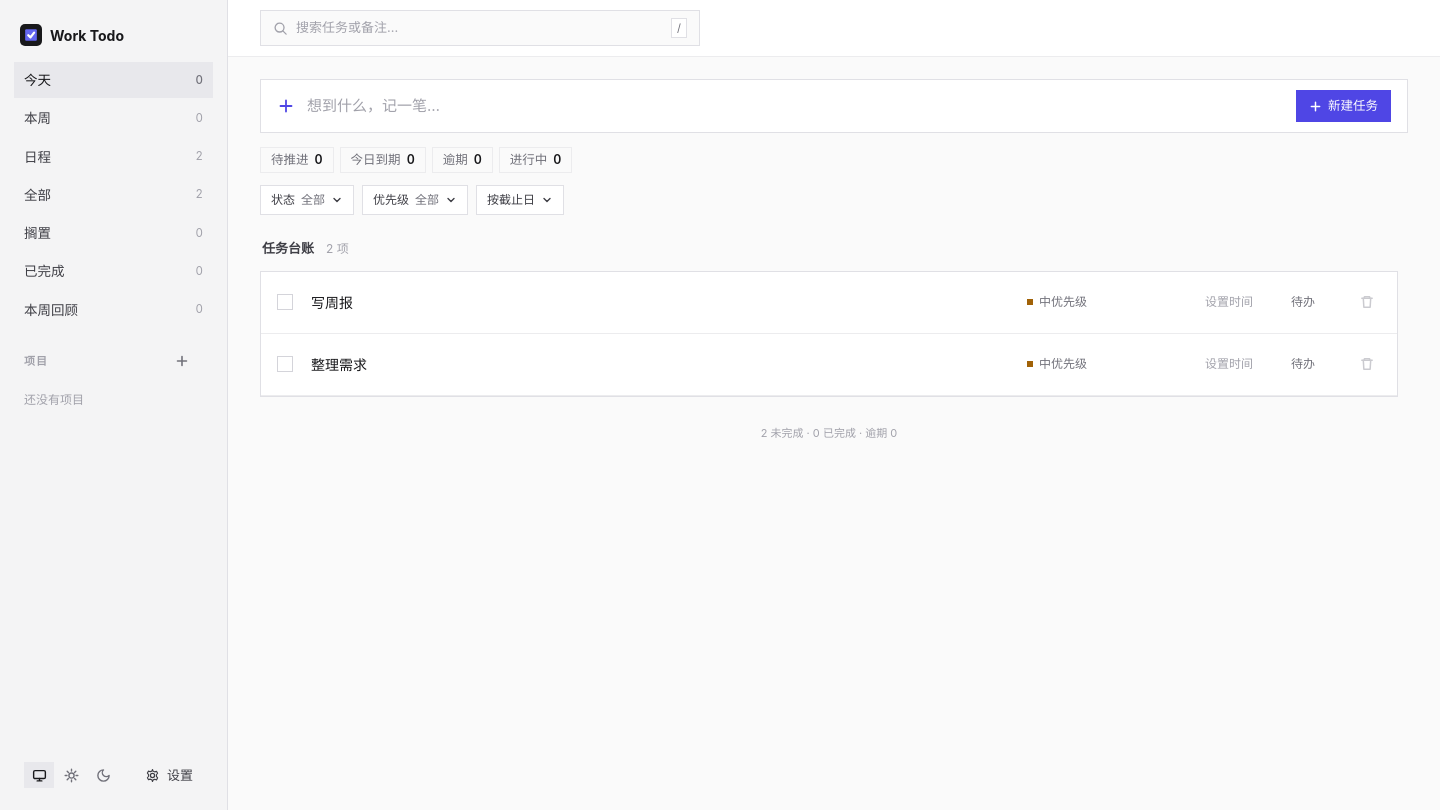
Test: 列表行不提供搁置入口 › 批量搁置后移出列表并汇报数量，侧栏计数随之变化
Expected: the text with id "nav-count-all" reads "2", [196,187,203,201]
Expected: the text with id "nav-count-shelved" reads "0", [196,226,203,240]
Step 1. Click the button with class "select-check" next to "写周报" → [285, 302], box [277,294,293,310]
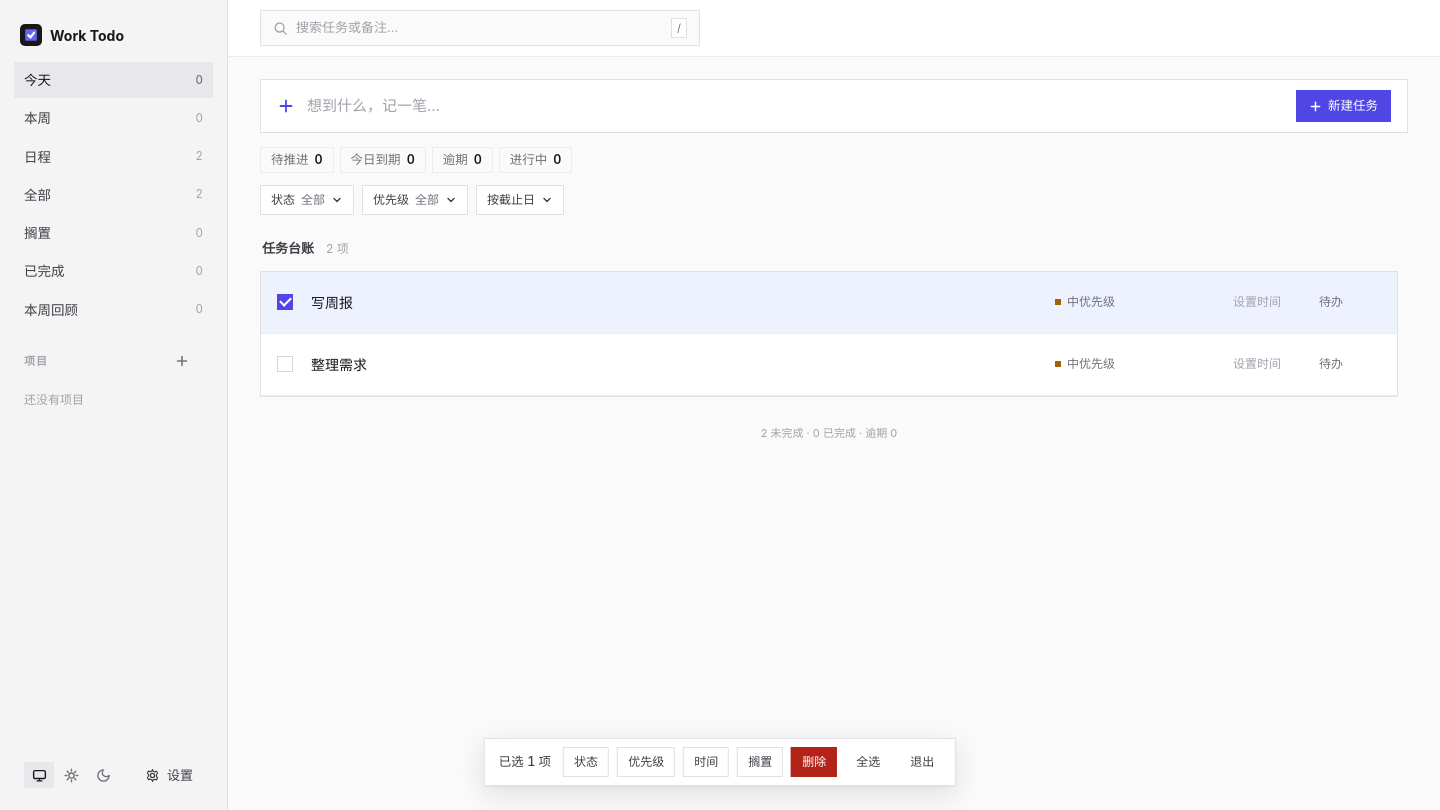
Step 2. Click the button "搁置" → [760, 762], box [737,747,783,777]
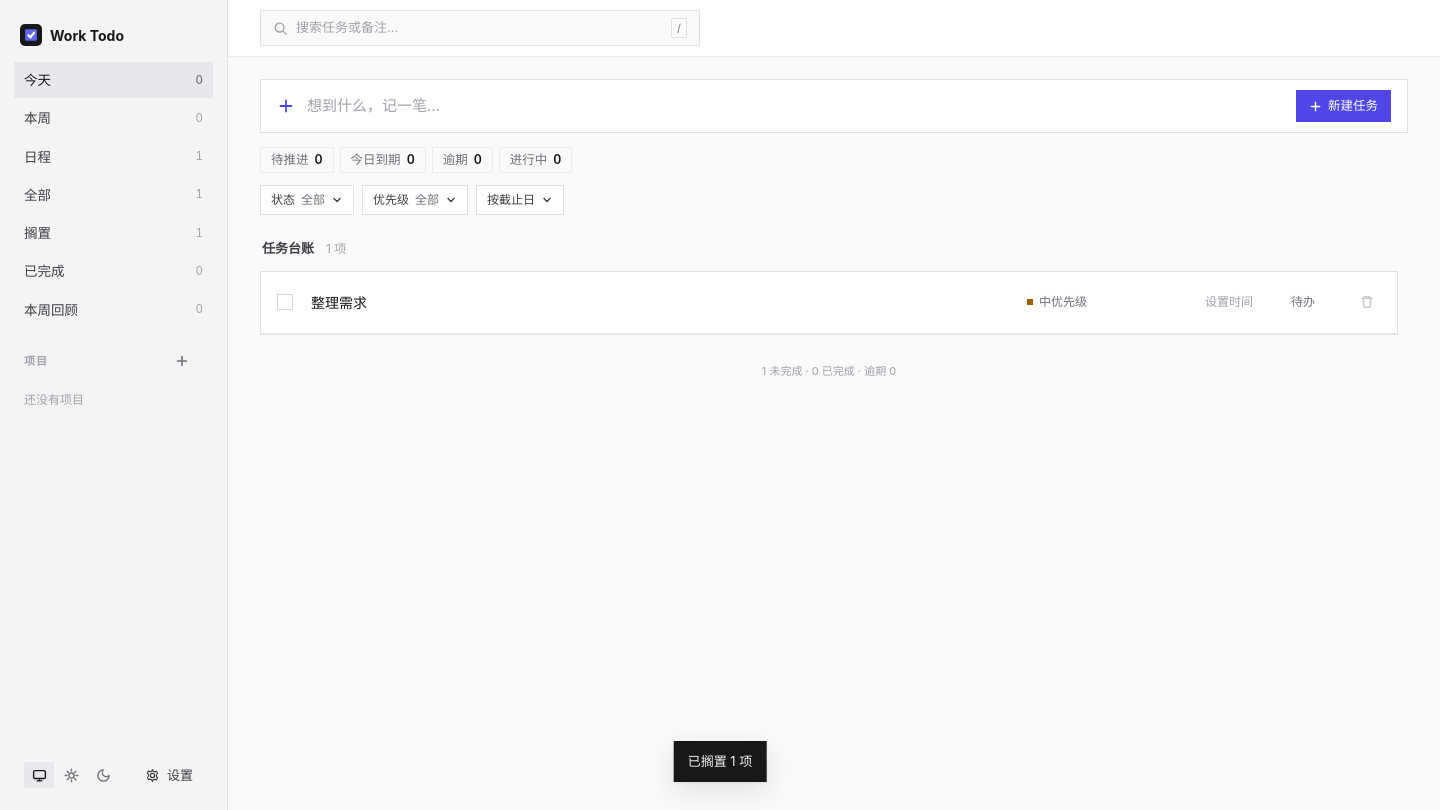
Result: the number of elements with class "task-card" is 1 at [261,272,1397,334]
Result: the message with id "toast" reads "已搁置 1 项" at [688,752,752,768]
Result: the text with id "nav-count-shelved" reads "1" at [196,226,203,240]
